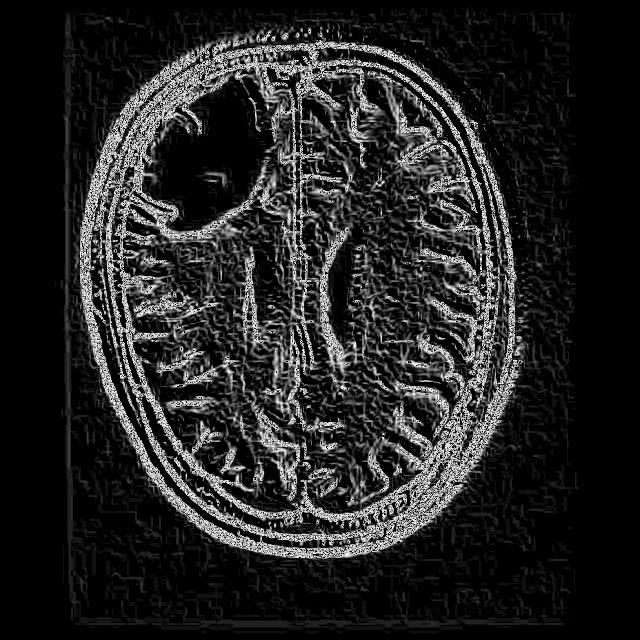Brain-Tumor: (118, 58, 286, 252)
